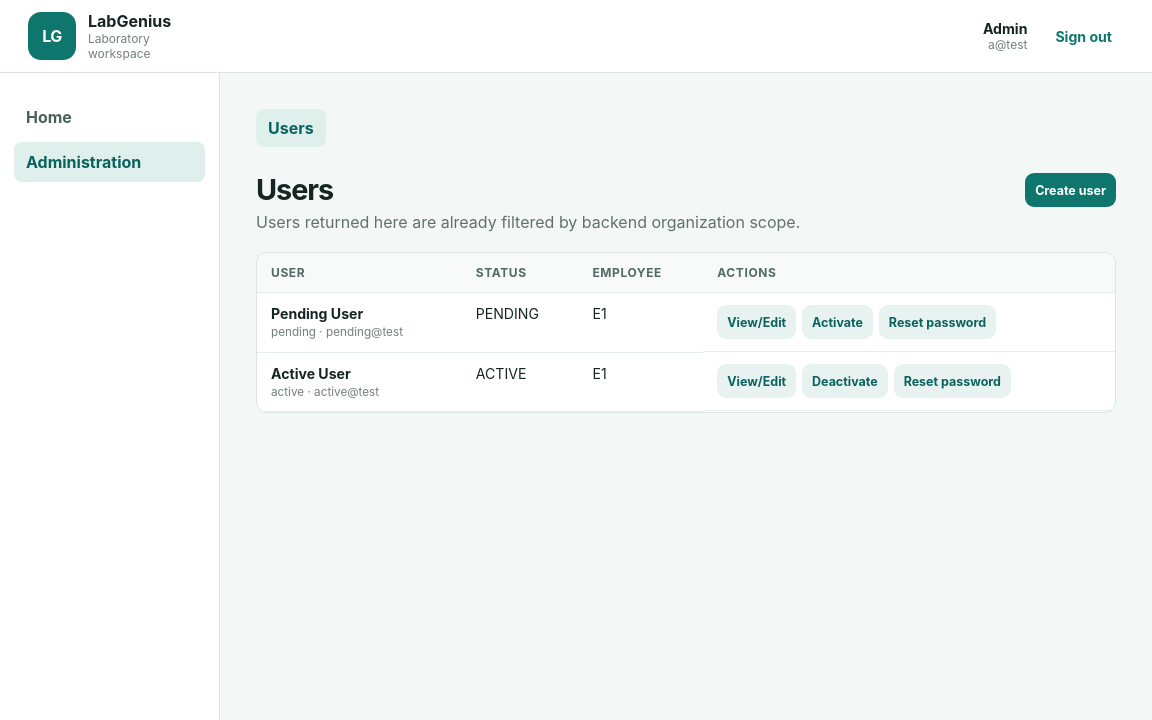
shows backend lifecycle transitions for PENDING and ACTIVE users and refreshes after activation
Expected: the text "Pending User" is shown, [271,305,363,322]
Expected: the button "View/Edit" in the row of "Pending User" is shown, [717,305,796,339]
What coordinates should you click on to do the following:
click the button "Activate"
I would click on:
 (838, 322)
Its box is [802,305,873,339].
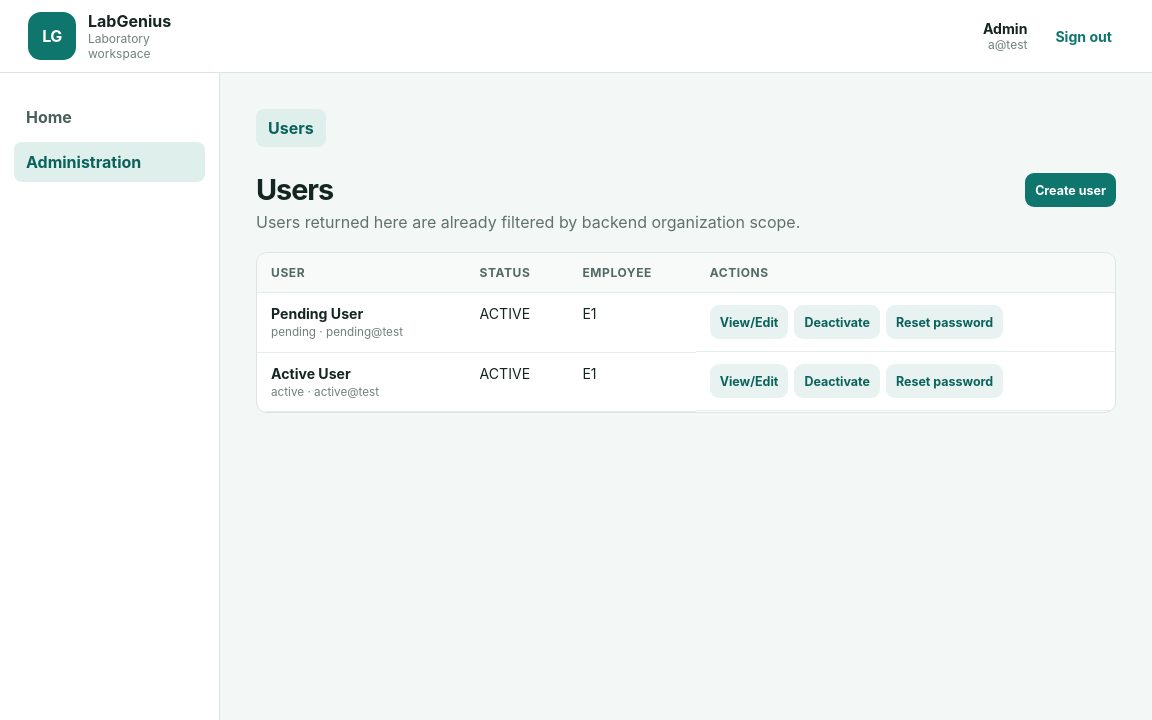
Expected: the text "Pending User" shows "ACTIVE", [480,305,530,322]
